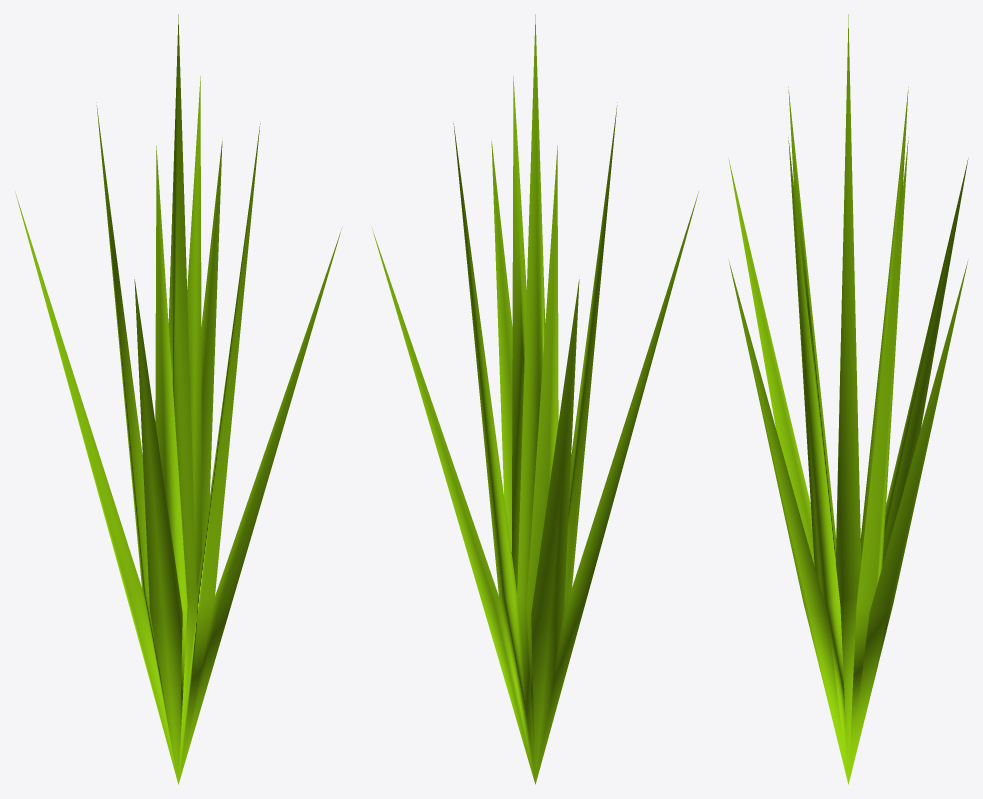
File: Perenna25cm.glb
3 renders of one model, left to right at view 1: azimuth 30°, elevation 25°; view 2: azimuth 150°, elevation 25°; view 3: azimuth 270°, elevation 25°, orthographic.
Parts seen in each view (by area): view 1: Perenna25cm; view 2: Perenna25cm; view 3: Perenna25cm.
Part boxes in pixels (box(x1,y1,x2,y2)): Perenna25cm: box(15, 14, 341, 784); Perenna25cm: box(372, 14, 698, 784); Perenna25cm: box(728, 14, 968, 784).
Size of the model in its own units: 0.0707 by 0.25 by 0.0707.
